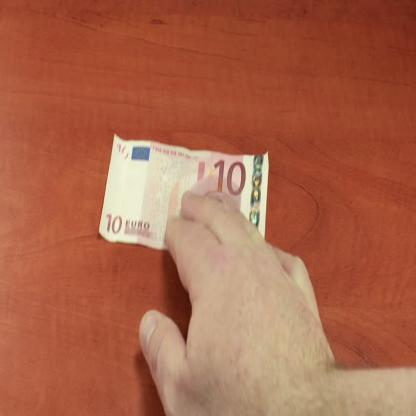billete: (96, 131, 270, 251)
